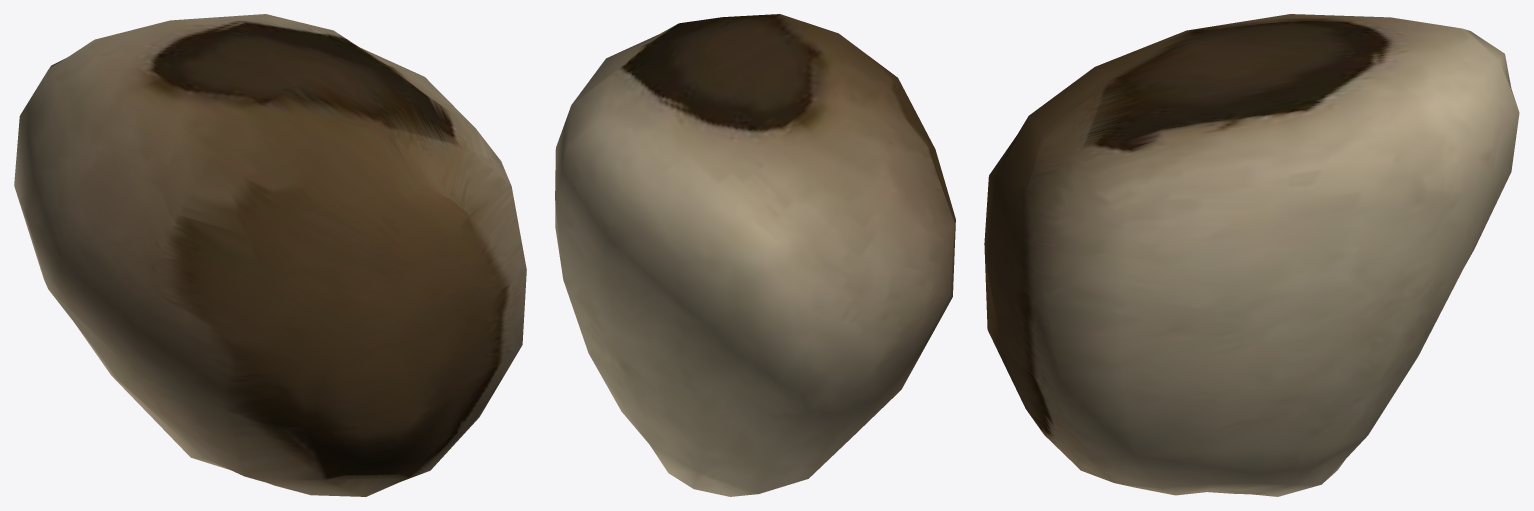
The model's file is Metatarsal_I.glb.
3 views of the same model, side by side, from view 1: azimuth 30°, elevation 25°; view 2: azimuth 150°, elevation 25°; view 3: azimuth 270°, elevation 25° (orthographic). The views are drawn at different scales.
Visible parts, largest first — view 1: Metatarsal_I_Right1:Group49638; view 2: Metatarsal_I_Right1:Group49638; view 3: Metatarsal_I_Right1:Group49638.
Boxes of the visible parts, x1,y1,x2,y2 form: Metatarsal_I_Right1:Group49638: (14, 14, 526, 496); Metatarsal_I_Right1:Group49638: (555, 14, 955, 496); Metatarsal_I_Right1:Group49638: (984, 14, 1519, 496).
Size of the model in its own units: 4.72 by 4.98 by 5.49.
Materials: 1 (1 with a texture image).
